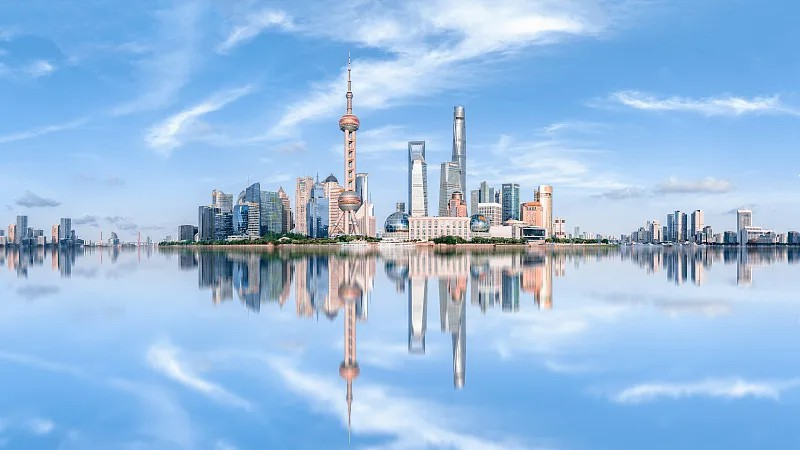Oriental: (329, 50, 363, 237)
